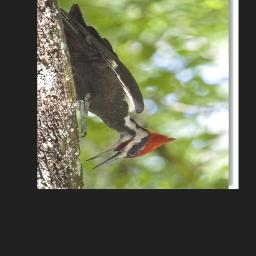Woodpecker: (59, 3, 177, 170)
